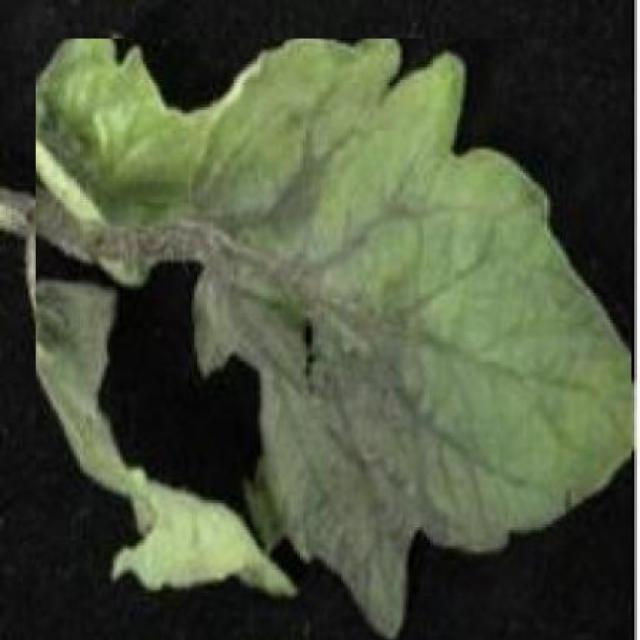Late Blight: (35, 38, 631, 640)
